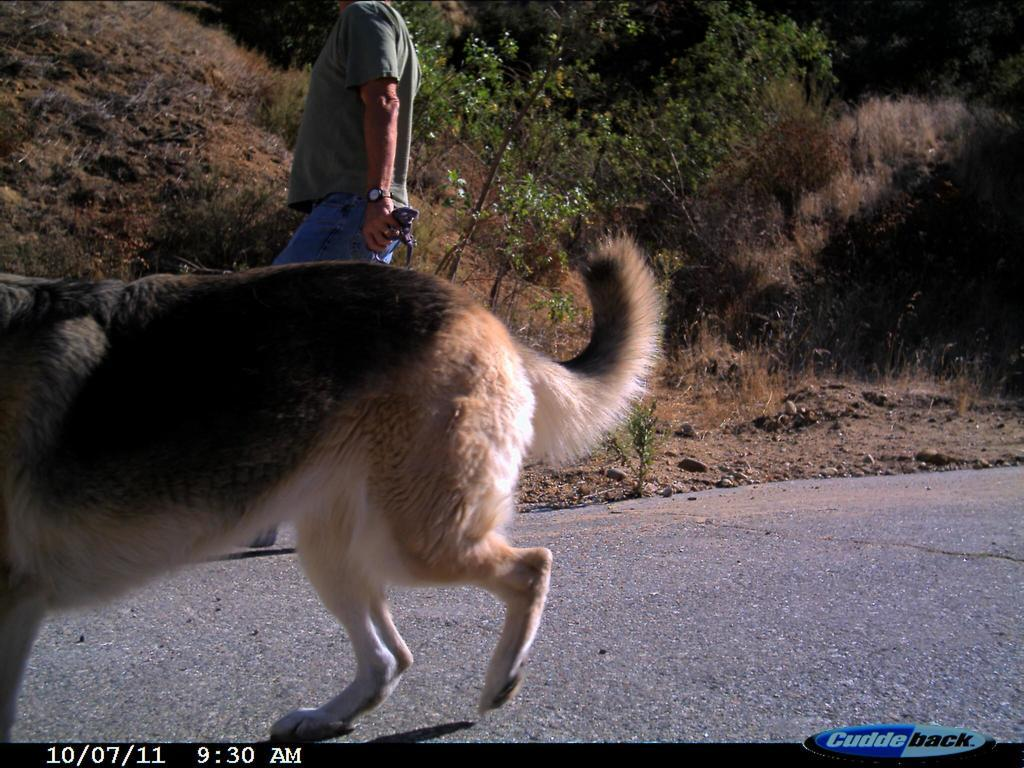dog: (4, 205, 712, 744)
